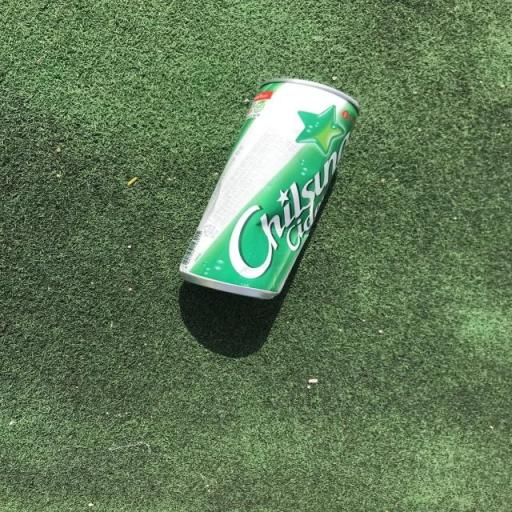metal: (168, 47, 422, 322)
